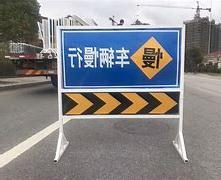sign: (59, 28, 182, 118)
